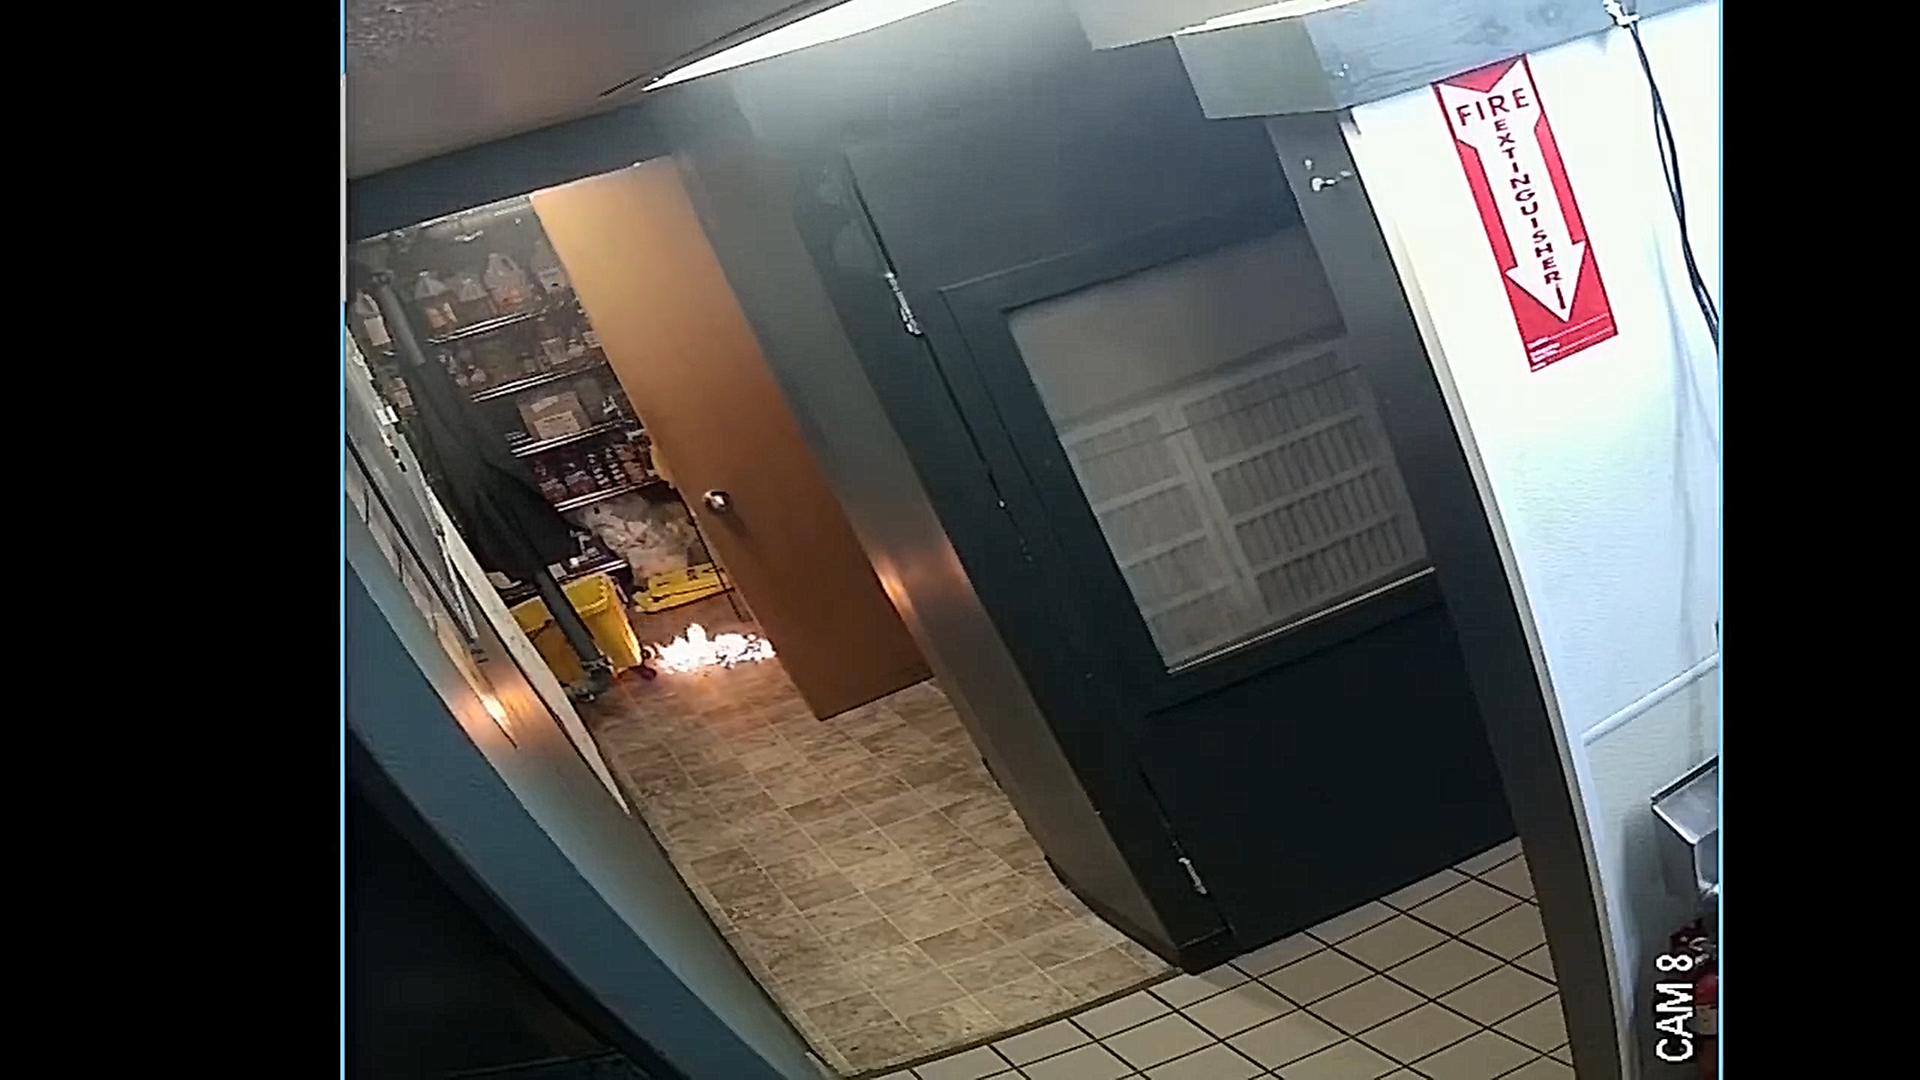fire: (647, 617, 783, 686)
